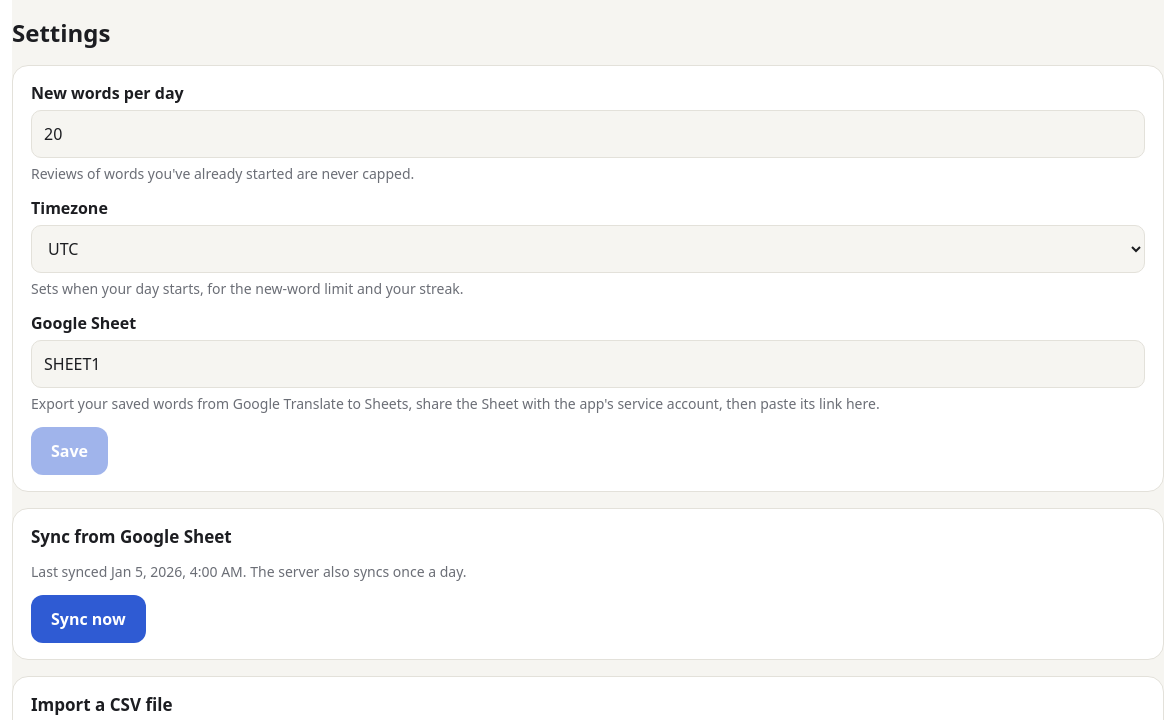
Test: SettingsScreen › syncs now and shows what changed
What coordinates should you click on to do the following:
click the button "Sync now"
I would click on:
 (88, 619)
Its box is [31,595,146,643].
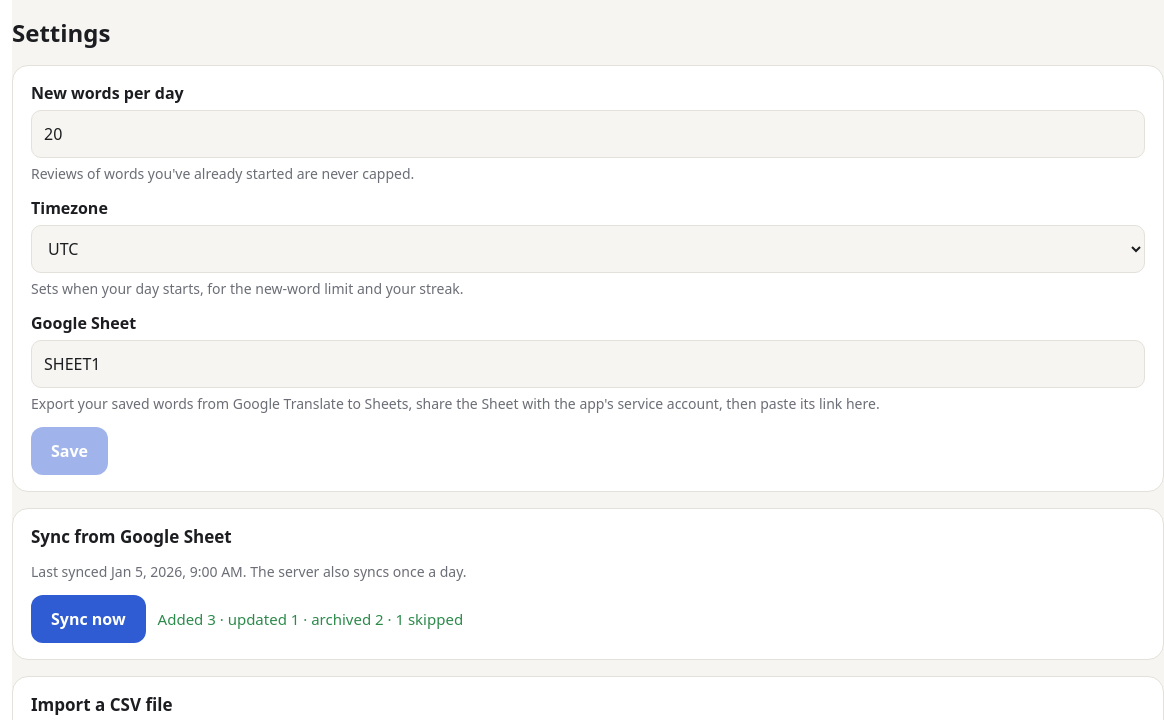
Check: the text "Last synced" shows "2026", box [31,562,247,581]
Check: the text "Added 3 · updated 1 · archived 2 · 1 skipped" is shown, box [158,609,463,629]
